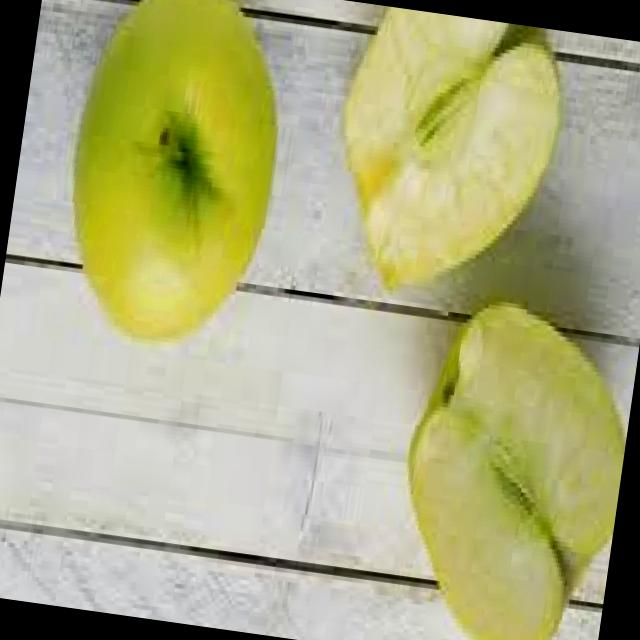Green Juicy Apple: (52, 0, 302, 353)
Rotten Apple: (383, 292, 640, 640)
Used Apple: (320, 2, 576, 311)
